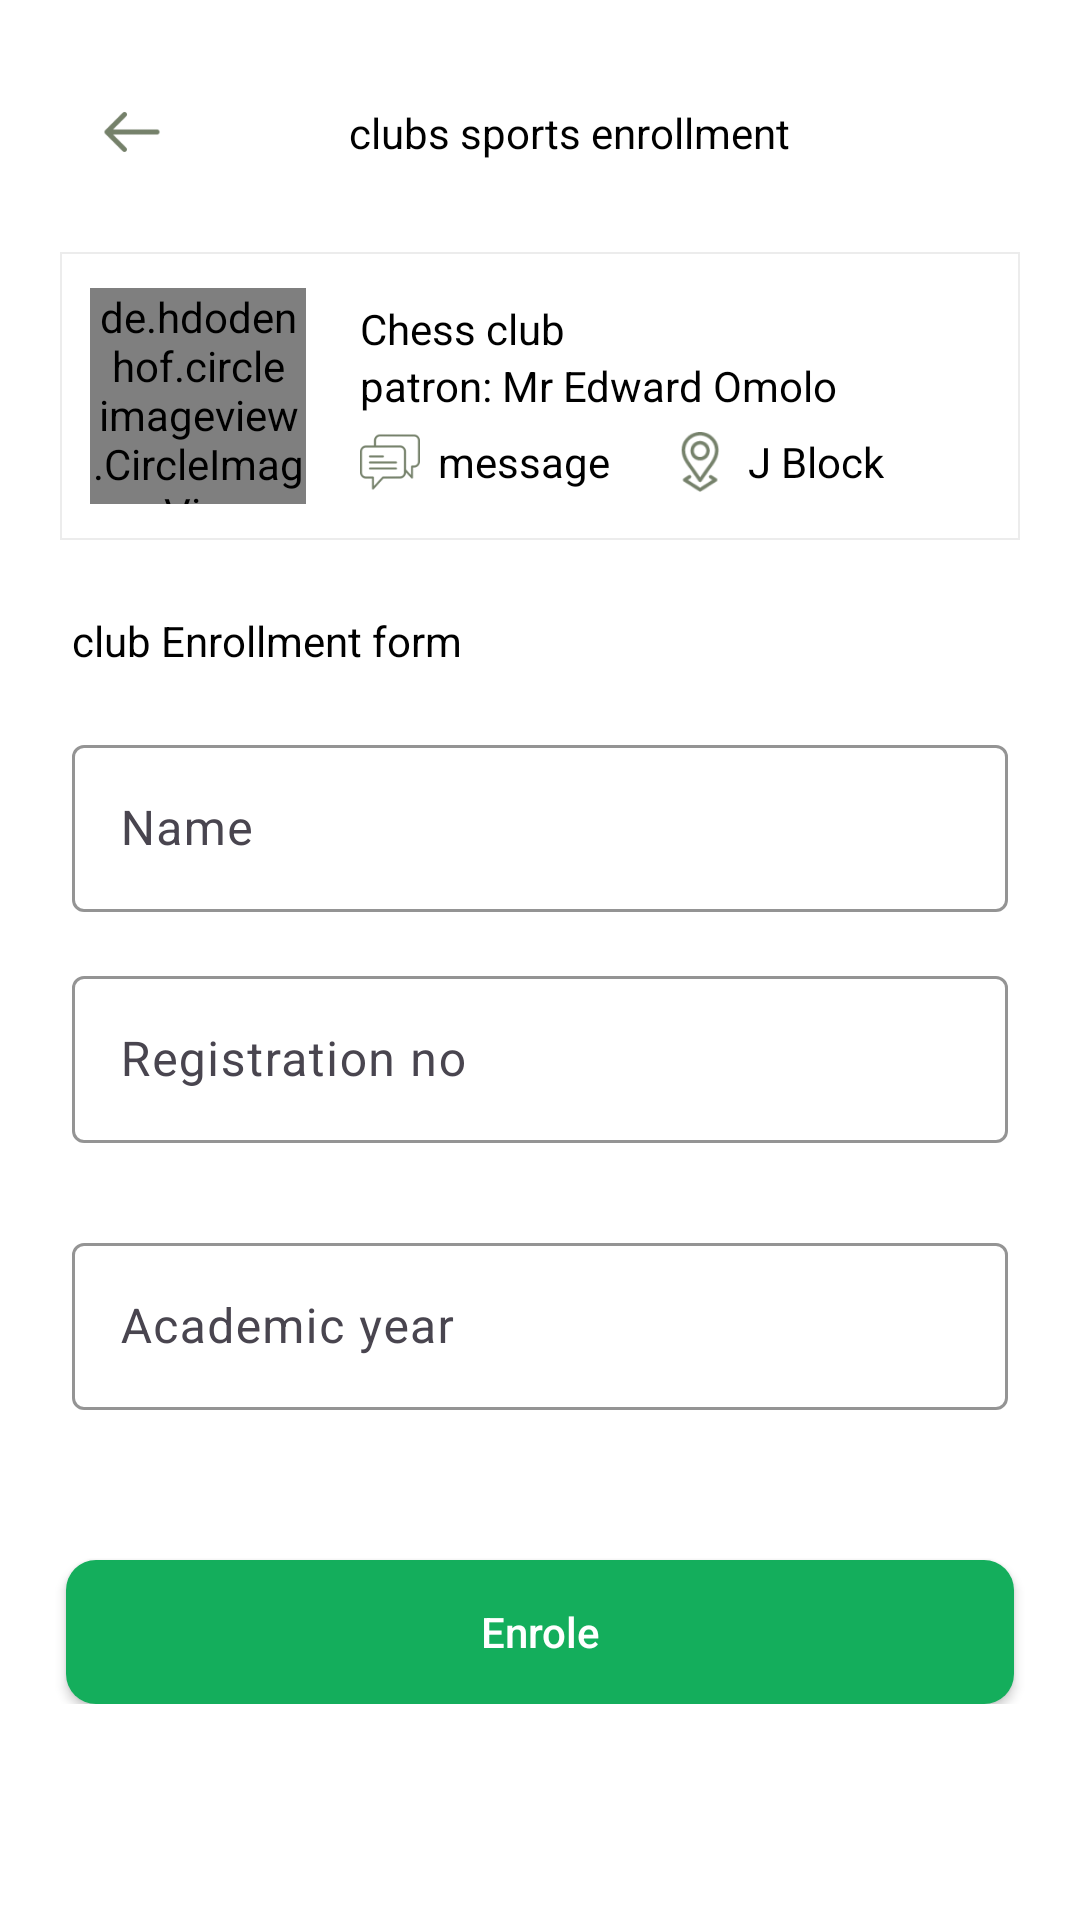

Icons on this 1080w x 1920h Android screen, each with its box as [x1, y1, x2, y2]:
back arrow: [104, 112, 160, 152]
chats: [360, 434, 420, 490]
location: [681, 432, 719, 492]
